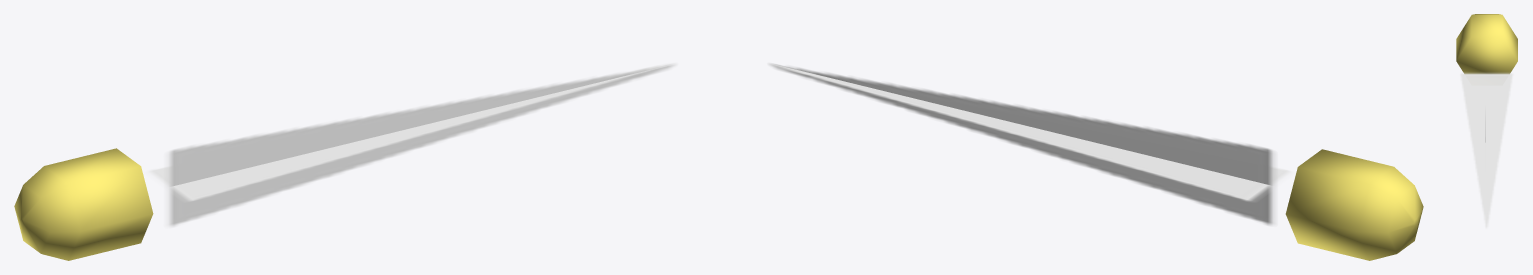
Rendered from TL_bullet.glb.
3 views of the same model, side by side, from view 1: azimuth 30°, elevation 25°; view 2: azimuth 150°, elevation 25°; view 3: azimuth 270°, elevation 25° (orthographic). The views are drawn at different scales.
Visible parts, largest first — view 1: Cylinder.001; view 2: Cylinder.001; view 3: Cylinder.001.
Part boxes in pixels (left/top/right/bottom): Cylinder.001: left=14, top=63, right=676, bottom=260; Cylinder.001: left=767, top=63, right=1423, bottom=260; Cylinder.001: left=1456, top=14, right=1517, bottom=228.
Size of the model in its own units: 15.5 by 2.16 by 2.16.
2 materials, 1 textured.
